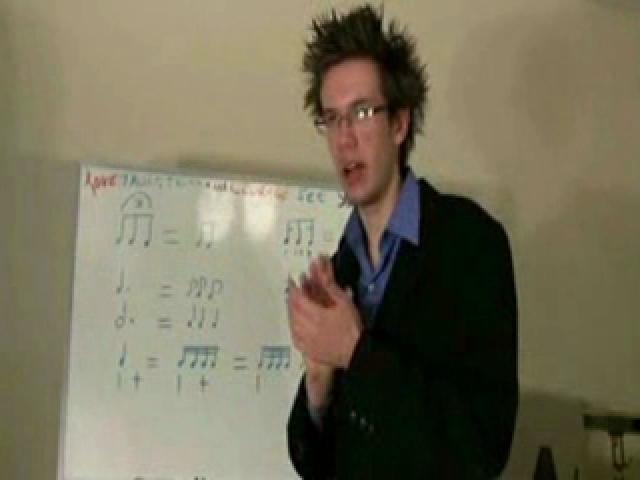F: (262, 4, 530, 480)
